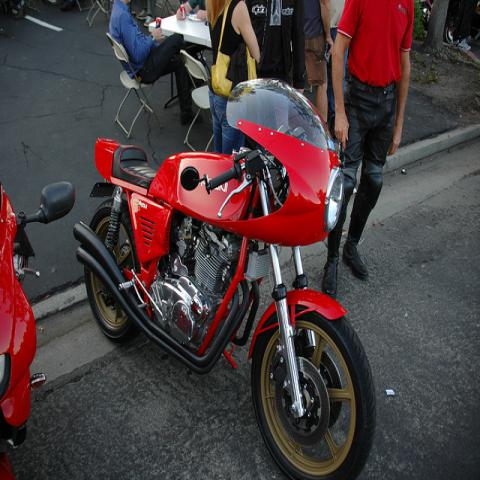motorcycle: (75, 79, 379, 474), (0, 182, 79, 473)
